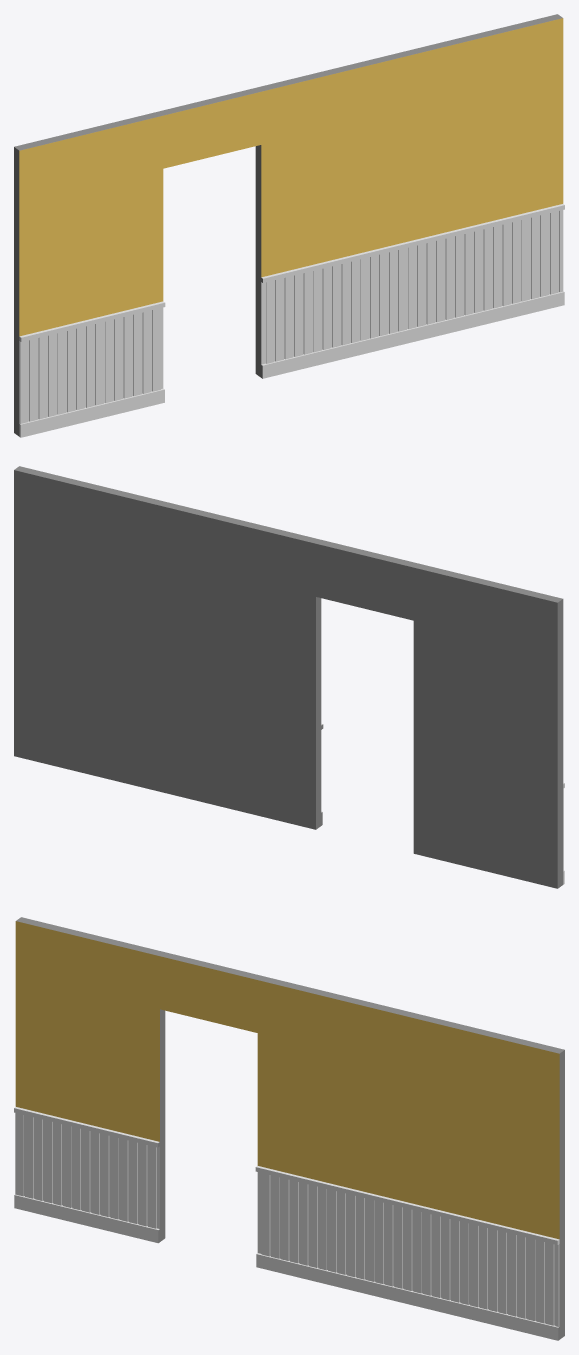
The model's file is Wall 2.FBX.
3 renders of one model, top to bottom at view 1: azimuth 30°, elevation 25°; view 2: azimuth 150°, elevation 25°; view 3: azimuth 330°, elevation 25°, orthographic.
Parts seen in each view (by area): view 1: Wall 2; view 2: Wall 2; view 3: Wall 2.
Part boxes in pixels (x1,y1,x2,y2): Wall 2: [14, 14, 564, 437]; Wall 2: [14, 466, 564, 888]; Wall 2: [14, 917, 564, 1340].
Bounding box in the file's own units: 497 × 250 × 11.43.
